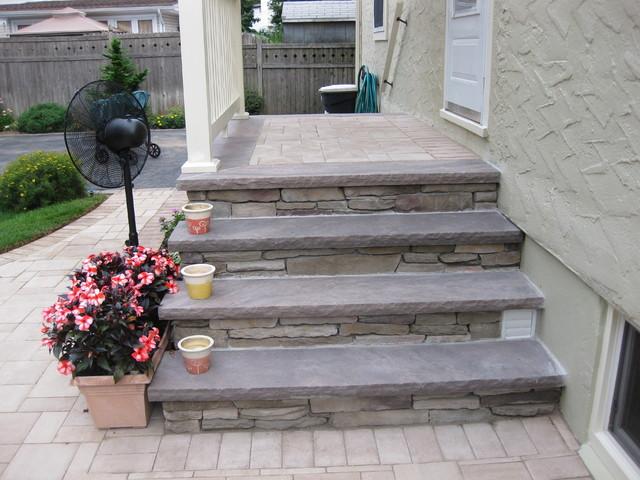upstairs: (231, 167, 494, 443)
